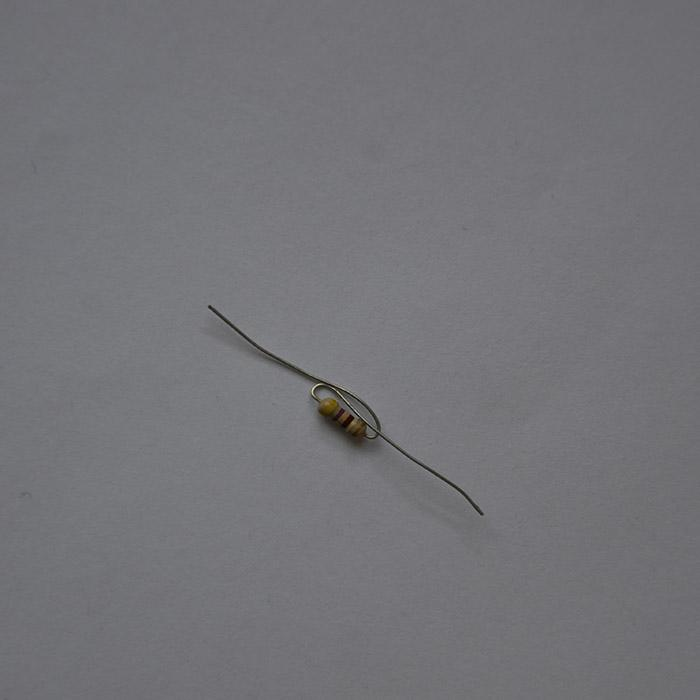resistor: (316, 396, 367, 438)
